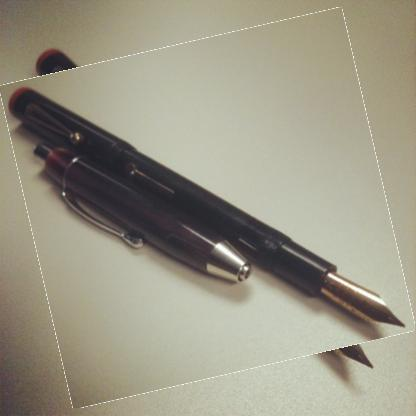Pen: (15, 25, 399, 391)
